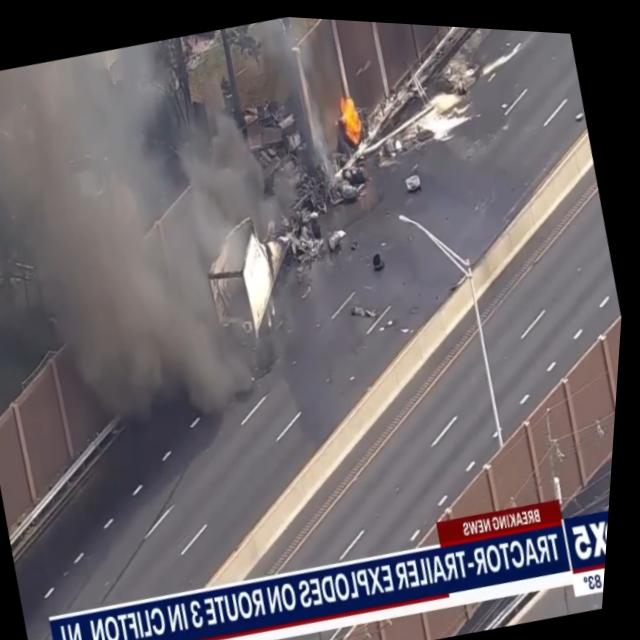Fire: (330, 83, 371, 142)
